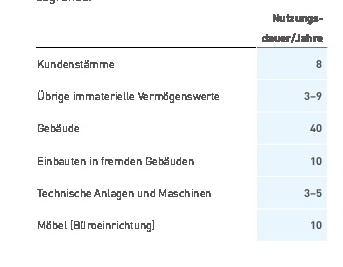table: (0, 0, 343, 267)
